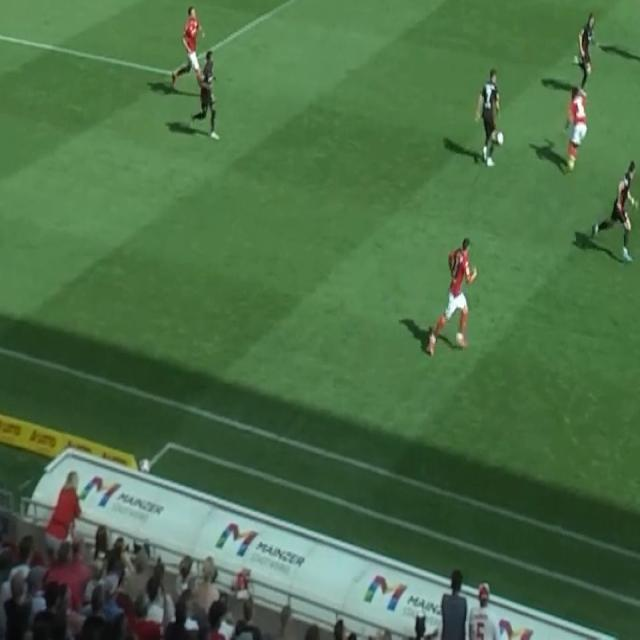ball: (496, 130, 505, 147)
